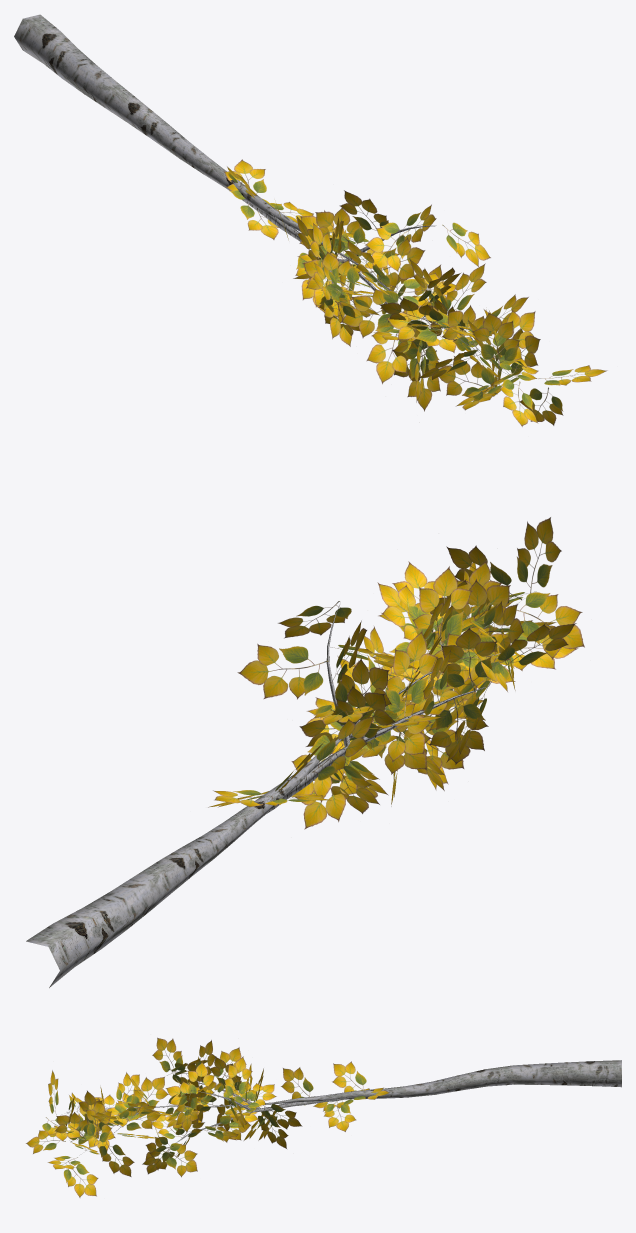
The model's file is Aspen1.glb.
3 views of the same model, one above another, from view 1: azimuth 30°, elevation 25°; view 2: azimuth 150°, elevation 25°; view 3: azimuth 270°, elevation 25° (orthographic). The views are drawn at different scales.
Visible parts, largest first — view 1: foliage.002_5, structure.002_4; view 2: foliage.002_5, structure.002_4; view 3: foliage.002_5, structure.002_4.
Boxes of the visible parts, left/top/right/bottom form: foliage.002_5: left=223, top=159, right=607, bottom=426; structure.002_4: left=14, top=14, right=507, bottom=383; foliage.002_5: left=208, top=517, right=584, bottom=829; structure.002_4: left=26, top=602, right=519, bottom=987; foliage.002_5: left=26, top=1037, right=389, bottom=1197; structure.002_4: left=74, top=1060, right=621, bottom=1148.
Bounding box in the file's own units: 3.59 × 3.05 × 11.19.
Materials: 2 (2 with a texture image).
